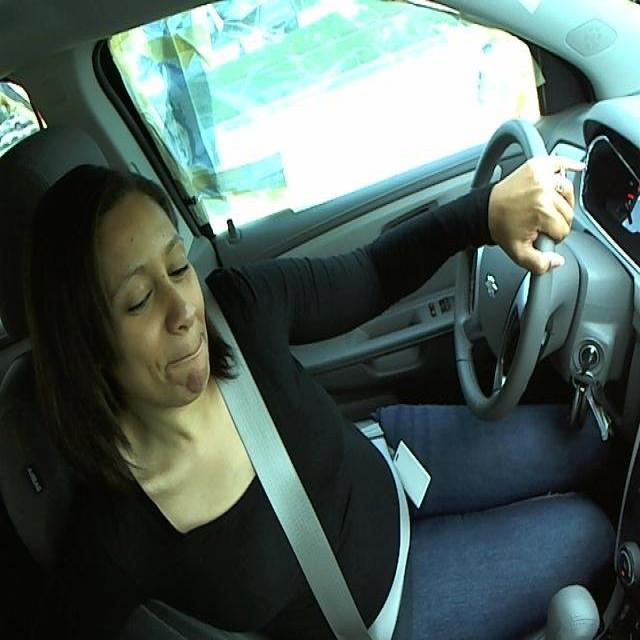seatbelt: (212, 356, 415, 639)
